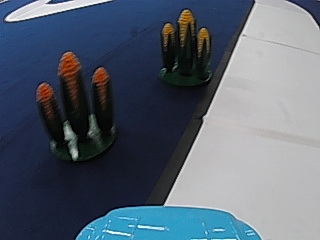corn: (42, 53, 116, 165), (156, 6, 214, 88)
